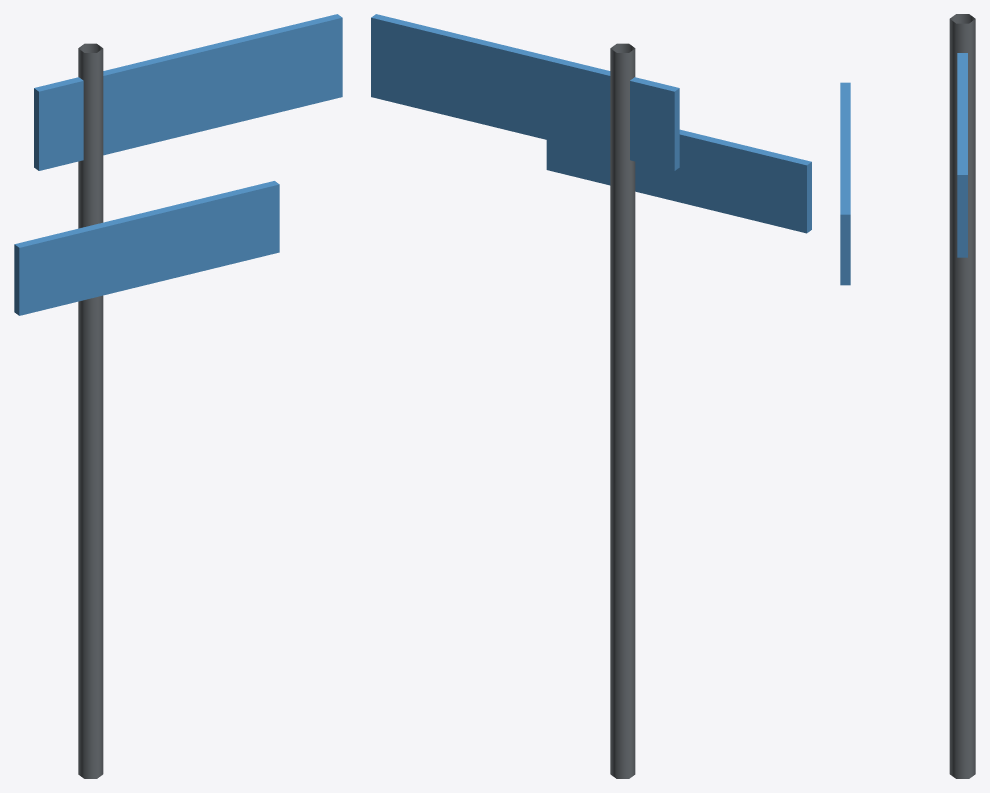
Rendered from street_sign.glb.
3 views of the same model, side by side, from view 1: azimuth 30°, elevation 25°; view 2: azimuth 150°, elevation 25°; view 3: azimuth 270°, elevation 25° (orthographic). The views are drawn at different scales.
Visible parts, largest first — view 1: SignBoard1_Node, SignBoard2_Node, SignPost_Node; view 2: SignBoard1_Node, SignPost_Node, SignBoard2_Node; view 3: SignPost_Node, SignBoard1_Node, SignBoard2_Node.
Part boxes in pixels (x1,y1,x2,y2): SignBoard1_Node: (34,14,342,170); SignBoard2_Node: (14,181,279,315); SignPost_Node: (78,43,103,778); SignBoard1_Node: (371,14,679,170); SignPost_Node: (610,43,635,778); SignBoard2_Node: (546,129,811,233); SignPost_Node: (949,14,975,778); SignBoard1_Node: (957,53,967,257); SignBoard2_Node: (840,82,850,285).
Bounding box in the file's own units: 1.75 × 3.2 × 0.52.
